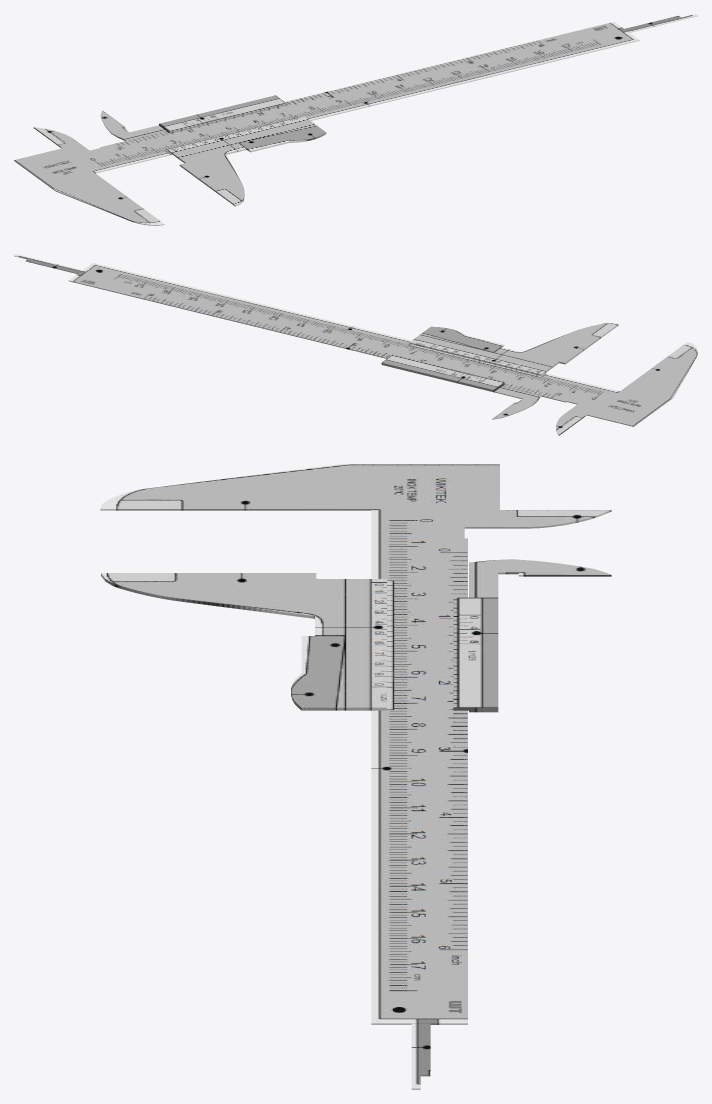
The model's file is Jangka sorong.fbx.
The picture shows the model from 3 angles, top to bottom: view 1: azimuth 30°, elevation 25°; view 2: azimuth 150°, elevation 25°; view 3: azimuth 270°, elevation 25°; orthographic projection. The views are drawn at different scales.
Parts seen in each view (by area): view 1: Cube.043, Cube.045, Cube.044; view 2: Cube.043, Cube.045, Cube.044; view 3: Cube.043, Cube.045, Cube.044.
Part boxes in pixels (x1=…): Cube.043: x1=14, y1=14, x2=697, y2=225; Cube.045: x1=167, y1=116, x2=326, y2=206; Cube.044: x1=100, y1=95, x2=287, y2=140; Cube.043: x1=14, y1=254, x2=697, y2=435; Cube.045: x1=409, y1=323, x2=618, y2=375; Cube.044: x1=381, y1=354, x2=540, y2=419; Cube.043: x1=100, y1=464, x2=611, y2=1089; Cube.045: x1=101, y1=573, x2=386, y2=710; Cube.044: x1=453, y1=559, x2=611, y2=712.
Size of the model in its own units: 29.32 by 0.0994 by 10.15.
3 materials, 3 textured.
